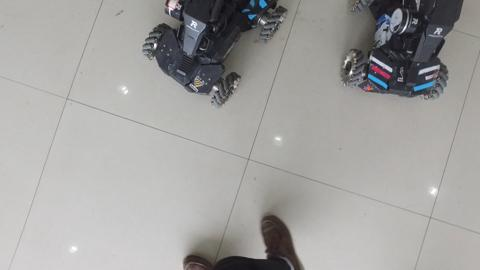chariot: (143, 1, 289, 116), (335, 1, 469, 109)
